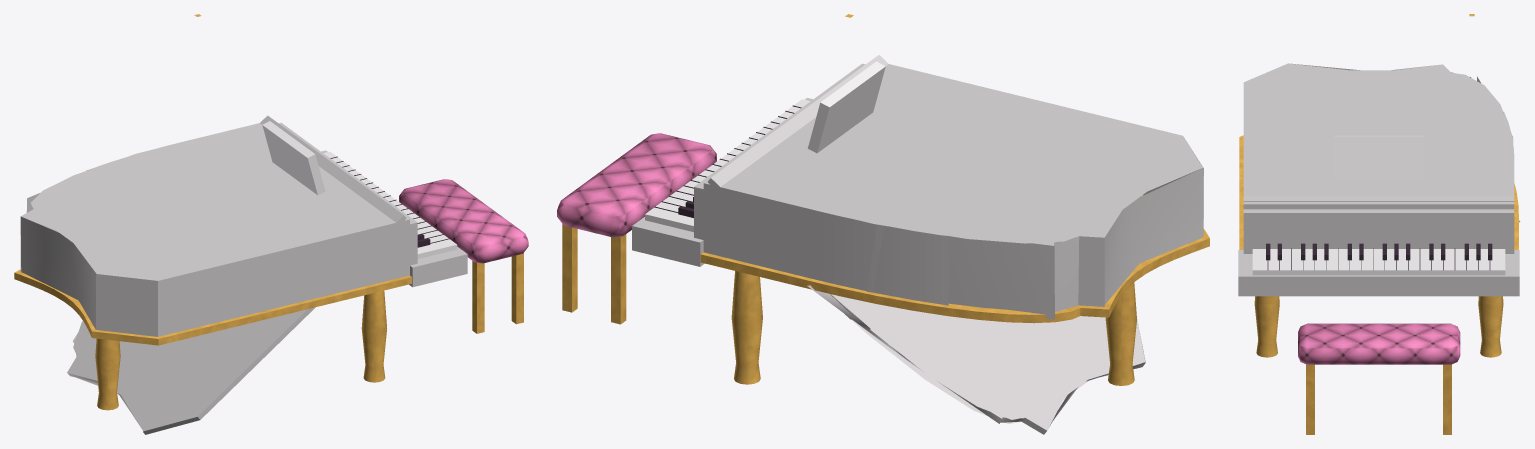
The model's file is citadel_toy_piano.glb.
3 views of the same model, side by side, from view 1: azimuth 30°, elevation 25°; view 2: azimuth 150°, elevation 25°; view 3: azimuth 270°, elevation 25° (orthographic). The views are drawn at different scales.
Parts seen in each view (by area): view 1: toy_piano_4, toy_piano_0, toy_piano_3, toy_piano_2; view 2: toy_piano_4, toy_piano_0, toy_piano_3, toy_piano_2; view 3: toy_piano_4, toy_piano_2, toy_piano_3, toy_piano_0, toy_piano_1.
Part boxes in pixels (left/top/right/bottom): toy_piano_4: left=20, top=115, right=467, bottom=434; toy_piano_0: left=14, top=14, right=523, bottom=410; toy_piano_3: left=399, top=179, right=528, bottom=263; toy_piano_2: left=262, top=121, right=457, bottom=258; toy_piano_4: left=632, top=55, right=1203, bottom=434; toy_piano_0: left=562, top=14, right=1209, bottom=385; toy_piano_3: left=557, top=133, right=716, bottom=237; toy_piano_2: left=645, top=61, right=885, bottom=232; toy_piano_4: left=1238, top=63, right=1520, bottom=296; toy_piano_2: left=1252, top=135, right=1505, bottom=275; toy_piano_3: left=1298, top=323, right=1460, bottom=364; toy_piano_0: left=1239, top=14, right=1518, bottom=434; toy_piano_1: left=1266, top=243, right=1492, bottom=270.
Size of the model in its own units: 2.83 by 1.92 by 1.56.
Materials: 5 (2 with a texture image).
